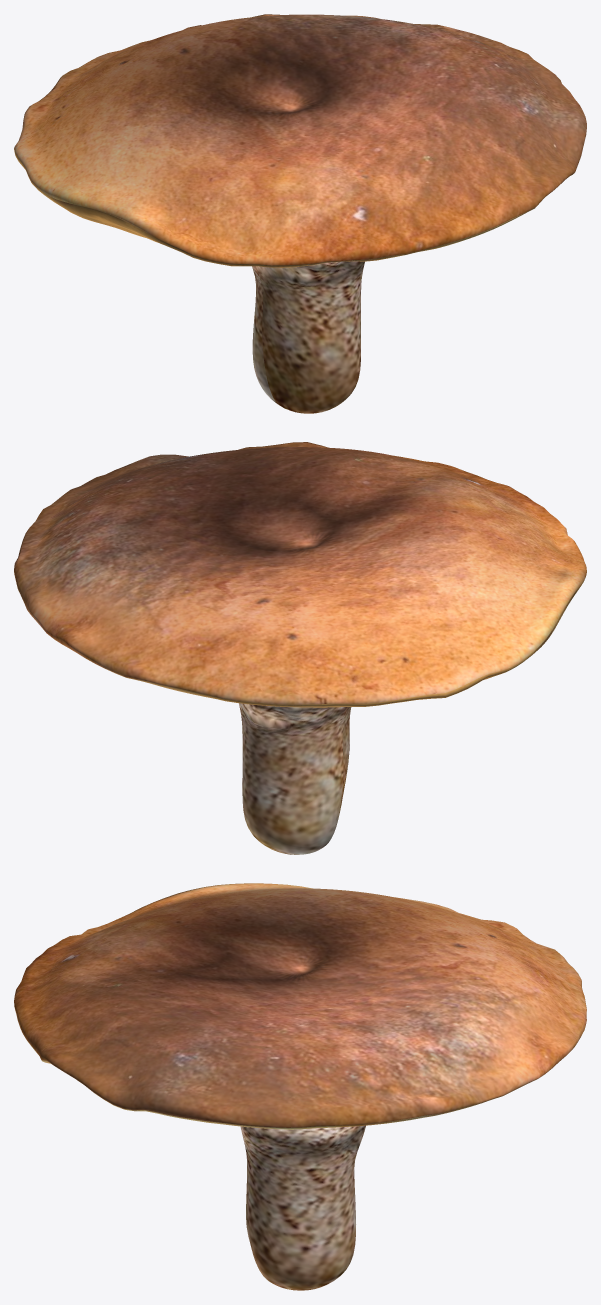
Rendered from SENE_38.fbx.
The picture shows the model from 3 angles, top to bottom: view 1: azimuth 30°, elevation 25°; view 2: azimuth 150°, elevation 25°; view 3: azimuth 270°, elevation 25°; orthographic projection.
Parts seen in each view (by area): view 1: SENE_38; view 2: SENE_38; view 3: SENE_38.
Part boxes in pixels (bbox=[...]): SENE_38: bbox=[14, 14, 586, 413]; SENE_38: bbox=[14, 442, 586, 854]; SENE_38: bbox=[14, 883, 586, 1290].
Bounding box in the file's own units: 83.23 × 51.26 × 83.52.
1 material, 1 textured.
